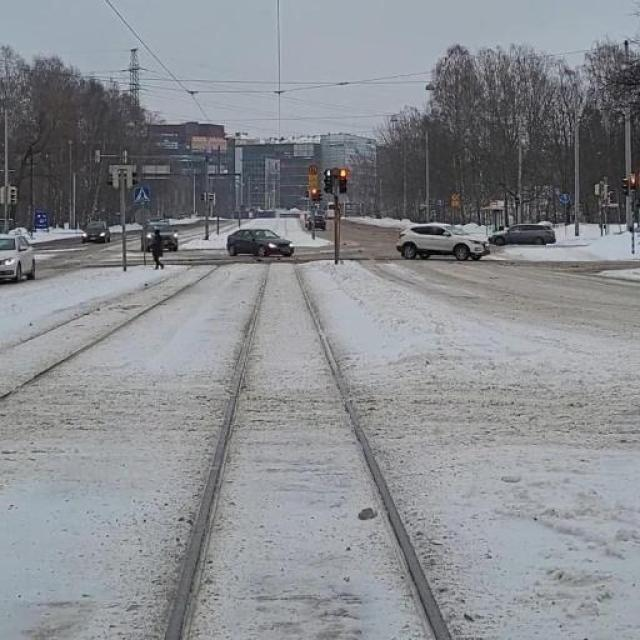people: (147, 224, 167, 273)
vehicle: (392, 220, 494, 264), (223, 225, 306, 264), (487, 219, 565, 248)
